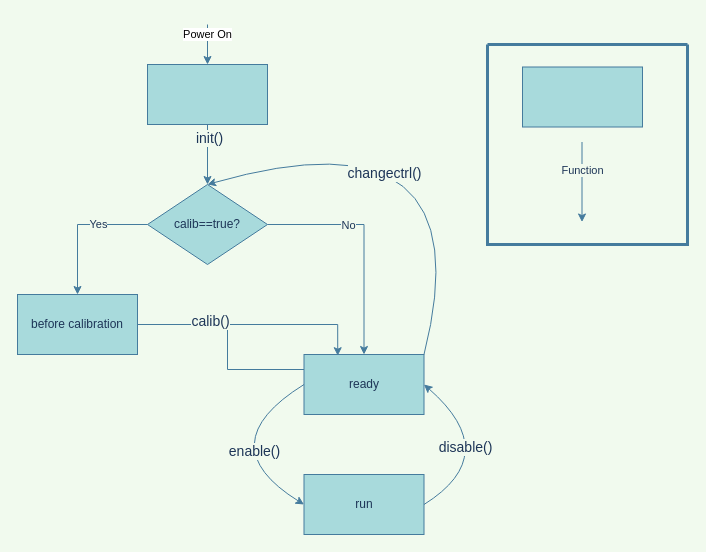
The diagram is 706 pixels wide and 552 high, and some of its shapes have lost their labels. Each missing label, with the centre of its shape:
"state" goes at (582,96).
"wait init" goes at (207,94).
